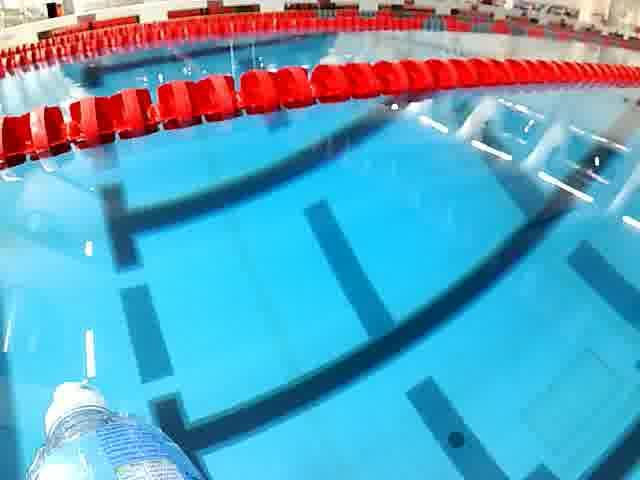Bottle: (22, 376, 210, 480)
